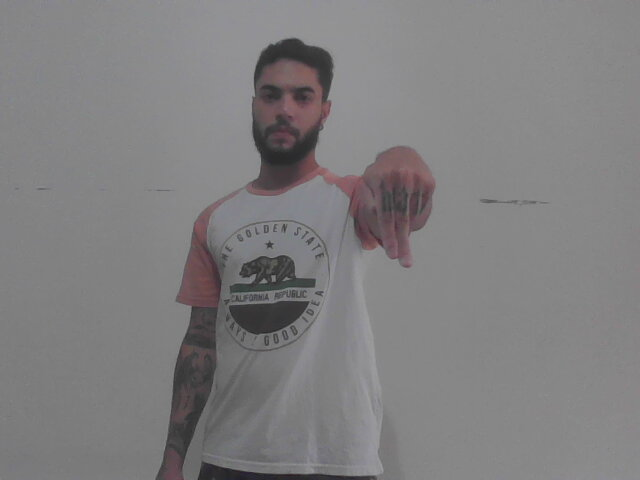n: (361, 141, 437, 272)
